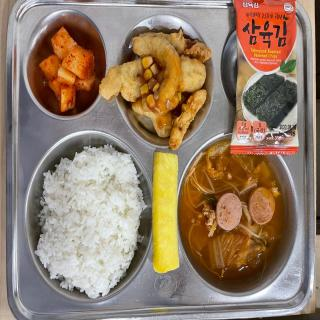Nasi: (33, 150, 141, 300)
